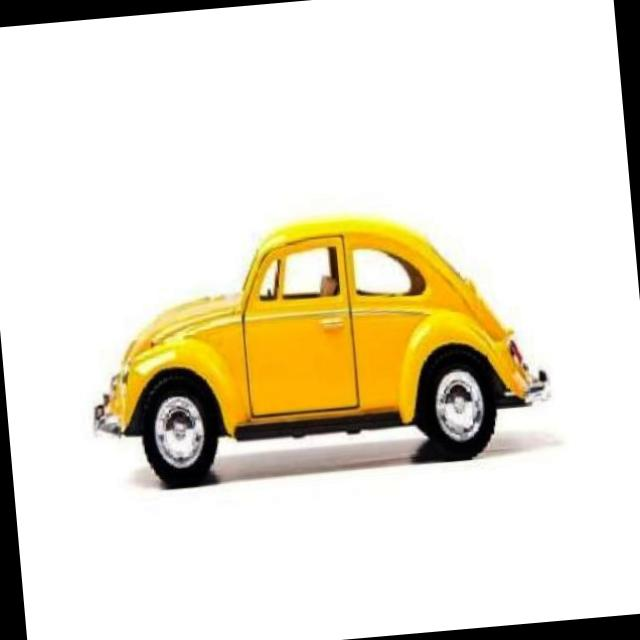car: (68, 202, 562, 498)
